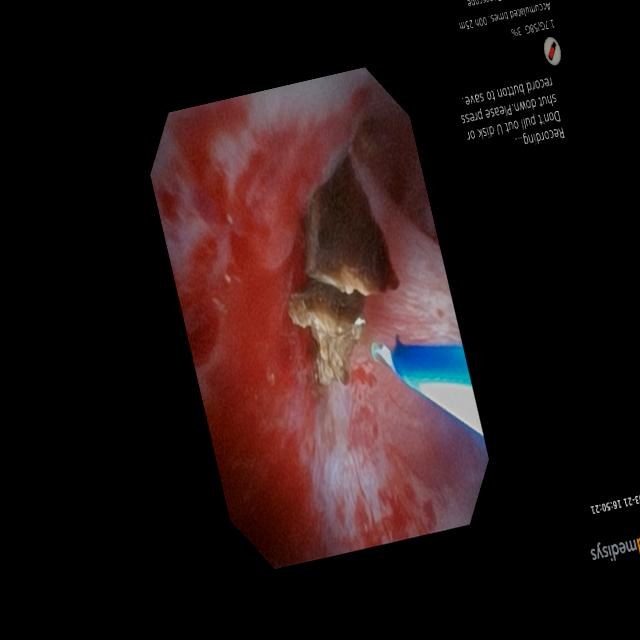laser-fibre: (371, 343, 398, 373)
stone-new: (304, 156, 399, 295), (288, 279, 365, 384)
